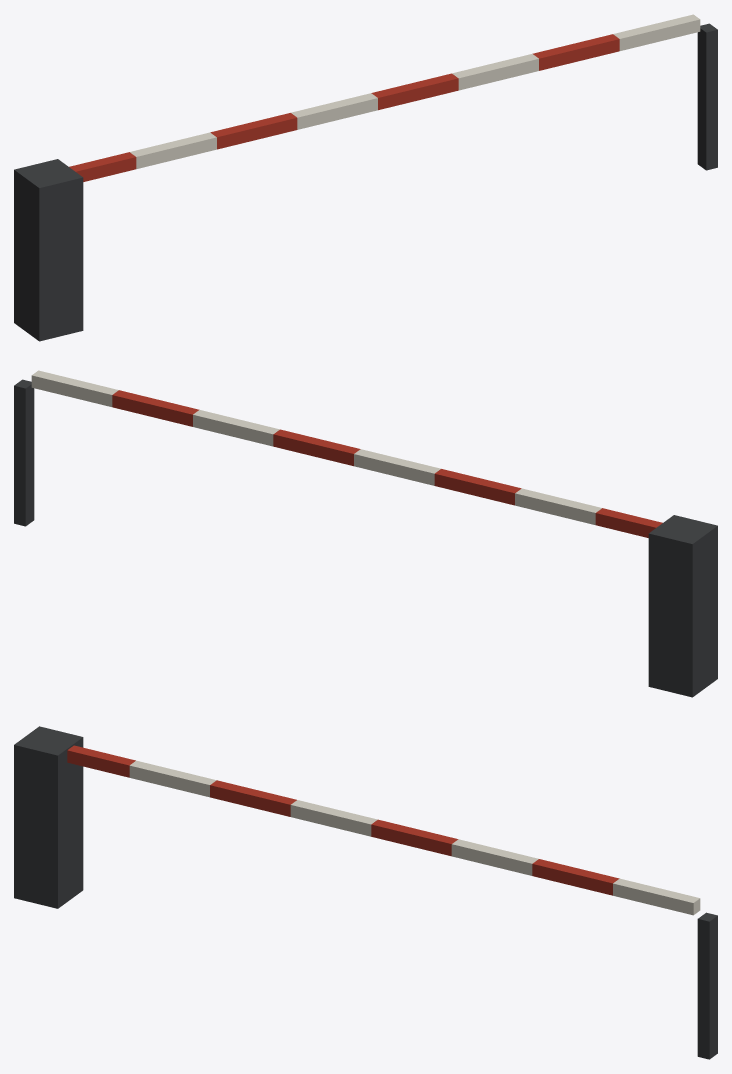
The model's file is barrier_gate.glb.
3 views of the same model, one above another, from view 1: azimuth 30°, elevation 25°; view 2: azimuth 150°, elevation 25°; view 3: azimuth 330°, elevation 25° (orthographic).
Visible parts, largest first — view 1: BarrierGate; view 2: BarrierGate; view 3: BarrierGate.
Boxes of the visible parts, x1,y1,x2,y2 form: BarrierGate: [14, 14, 717, 341]; BarrierGate: [14, 370, 717, 697]; BarrierGate: [14, 726, 717, 1059].
Size of the model in its own units: 4.69 by 1 by 0.3.
